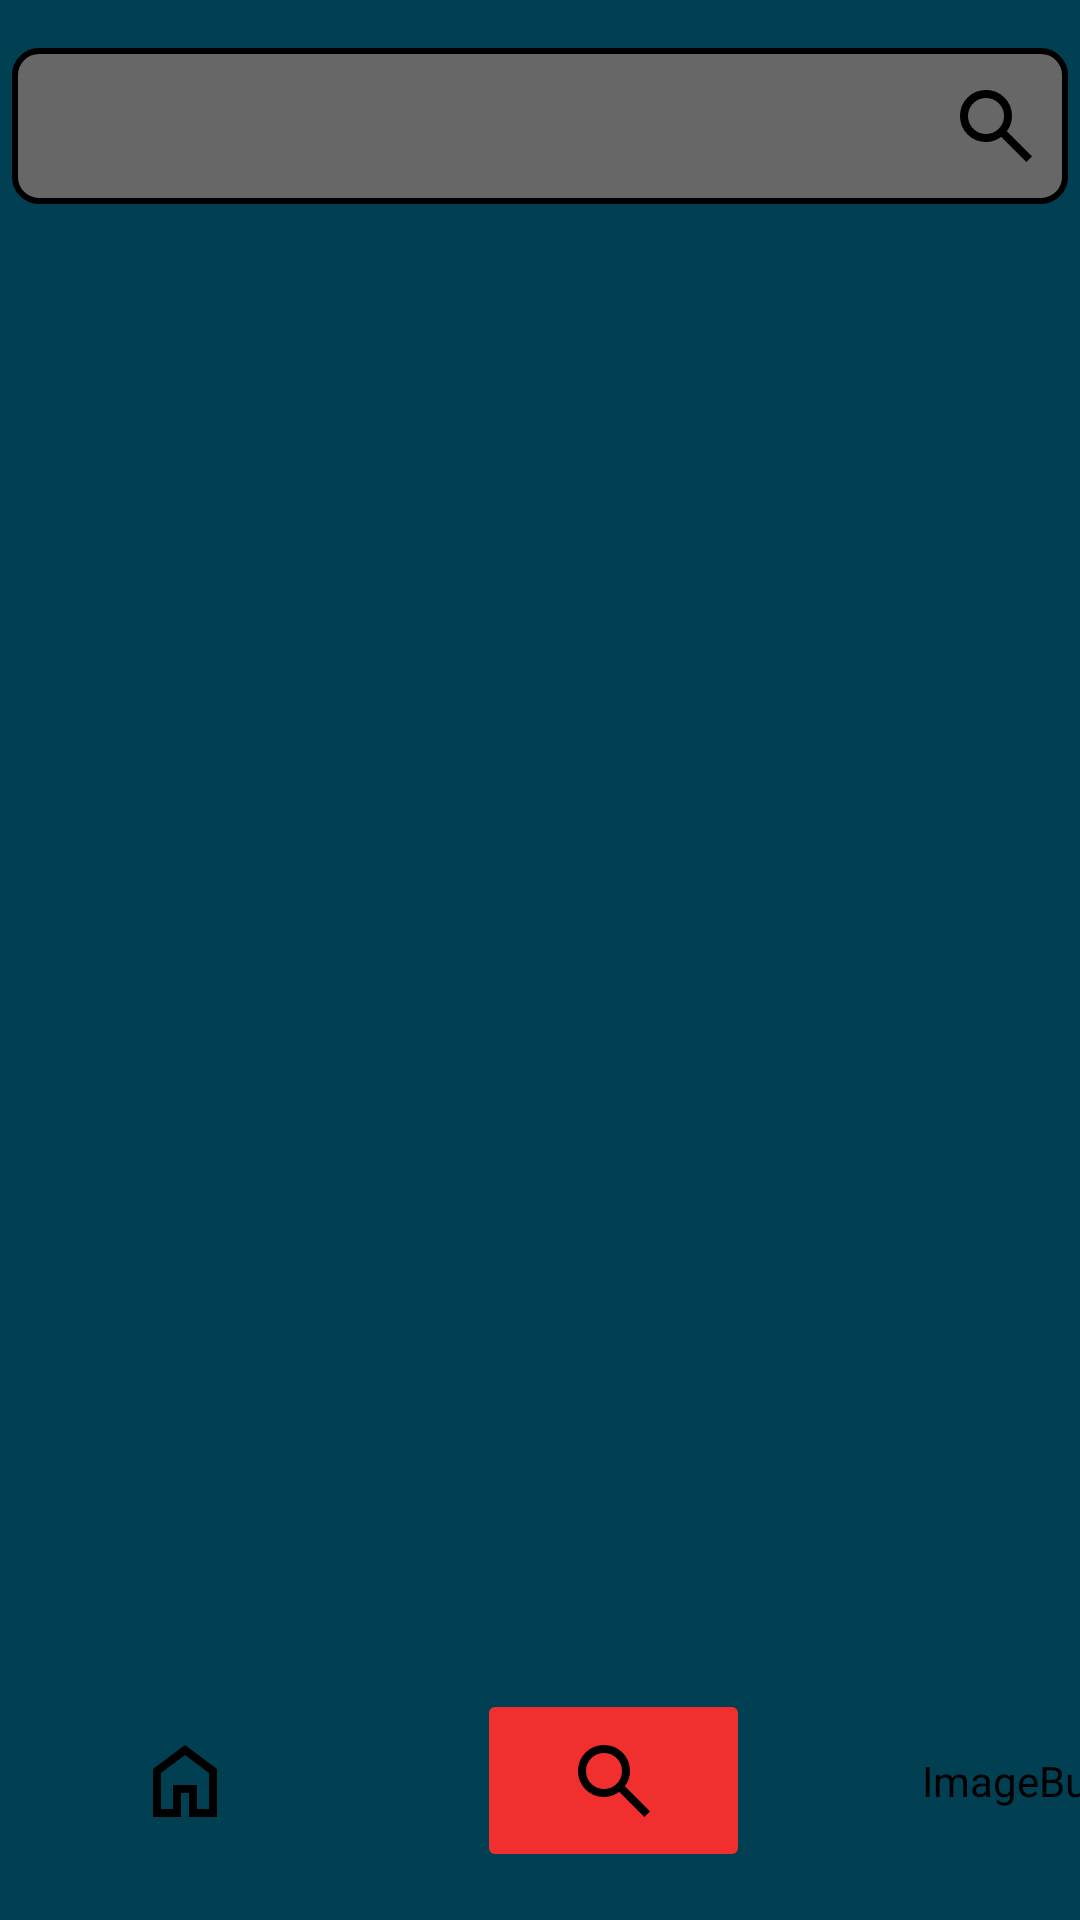

Icons on this 1080 × 1920 Android screen, each with the point to tap as point (x, y):
home: point (185, 1781)
